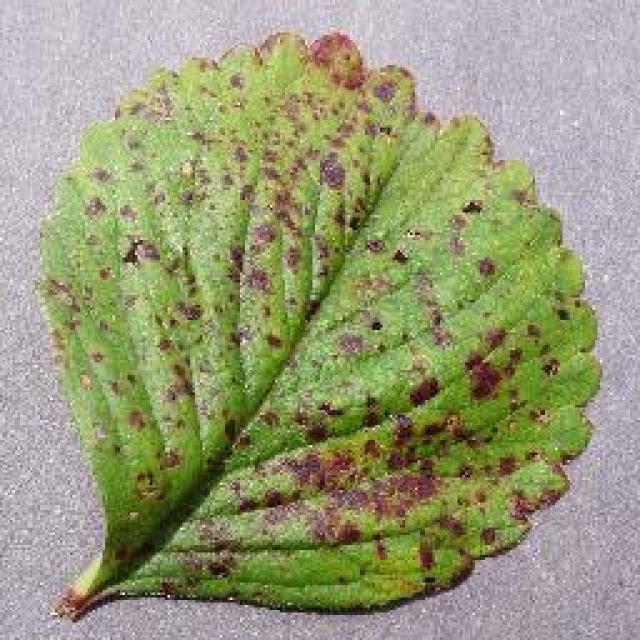Strawberry leaf scorch: (72, 48, 503, 522)
